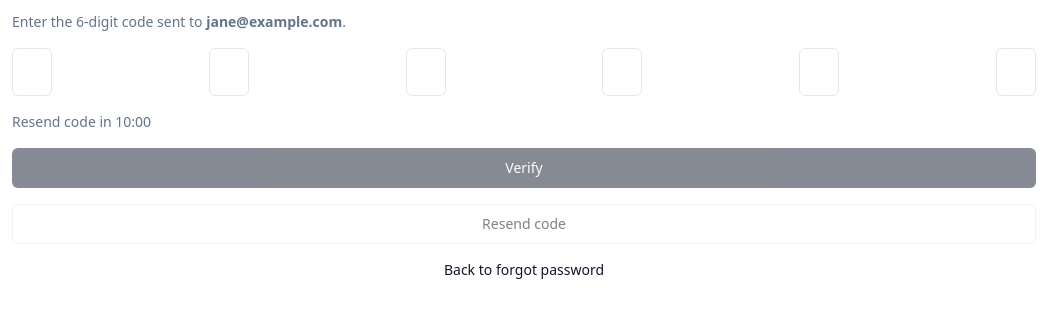
Test: OtpForm › disables Verify and reveals Resend on an expired code
Type "1" into the field named "Digit 1 of 6" at (32, 72), box x1=12 y1=48 x2=52 y2=96
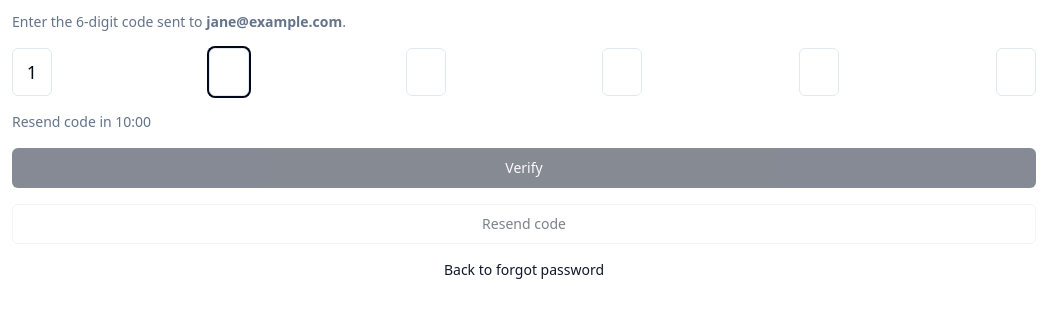
Type "1" into the field named "Digit 2 of 6" at (229, 72), box x1=209 y1=48 x2=249 y2=96
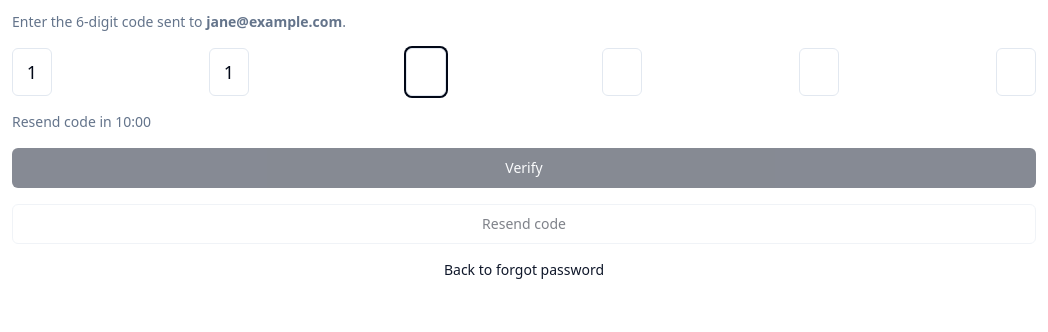
Type "1" into the field named "Digit 3 of 6" at (426, 72), box x1=406 y1=48 x2=446 y2=96
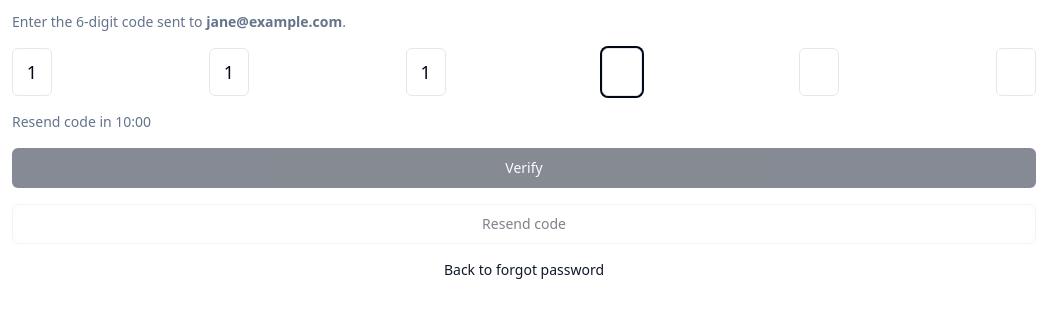
Type "1" into the field named "Digit 4 of 6" at (622, 72), box x1=602 y1=48 x2=642 y2=96
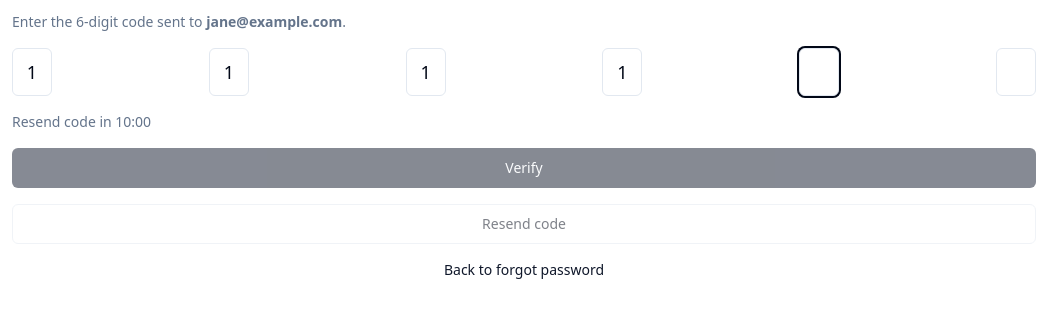
Type "1" into the field named "Digit 5 of 6" at (819, 72), box x1=799 y1=48 x2=839 y2=96
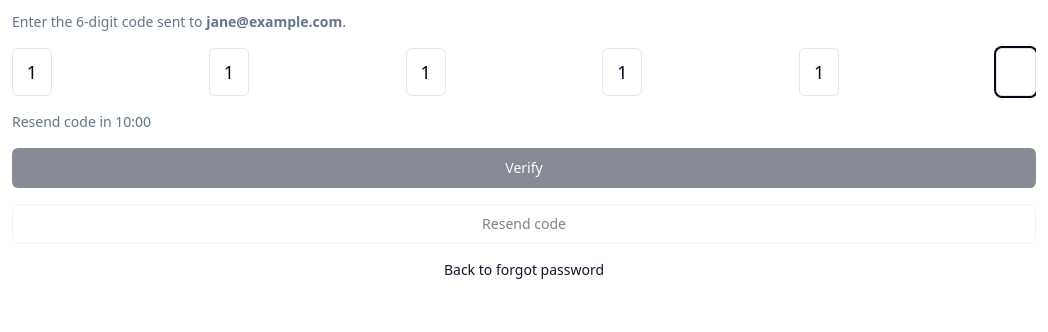
Type "1" into the field named "Digit 6 of 6" at (1016, 72), box x1=996 y1=48 x2=1036 y2=96
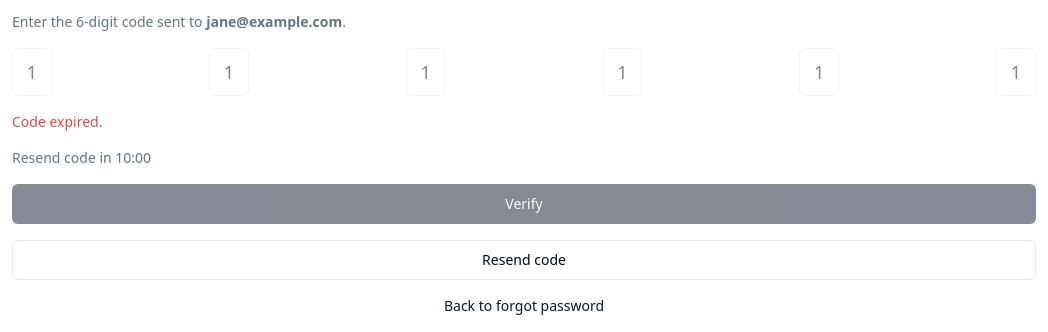
Check: the button "Verify" is disabled, box x1=12 y1=184 x2=1036 y2=224
Check: the text "Code expired." is shown, box x1=12 y1=112 x2=102 y2=131
